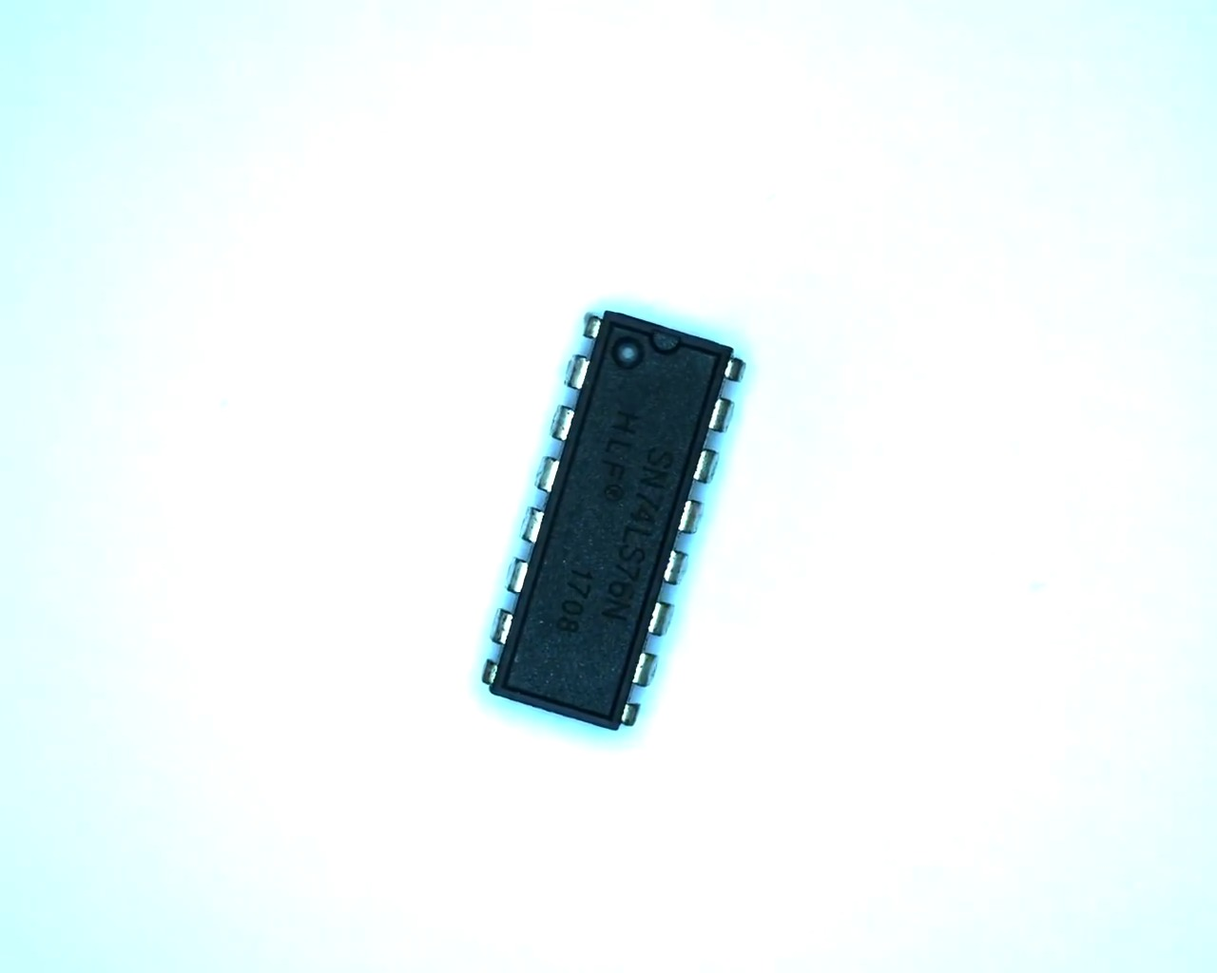IC: (472, 301, 754, 746)
notch: (645, 316, 687, 362)
